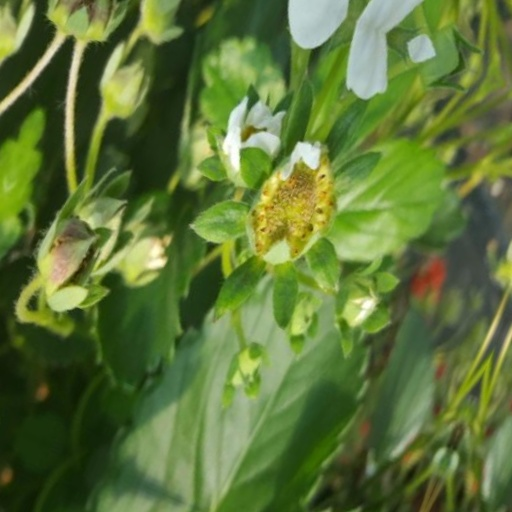Blossom Blight: (232, 258, 315, 372)
